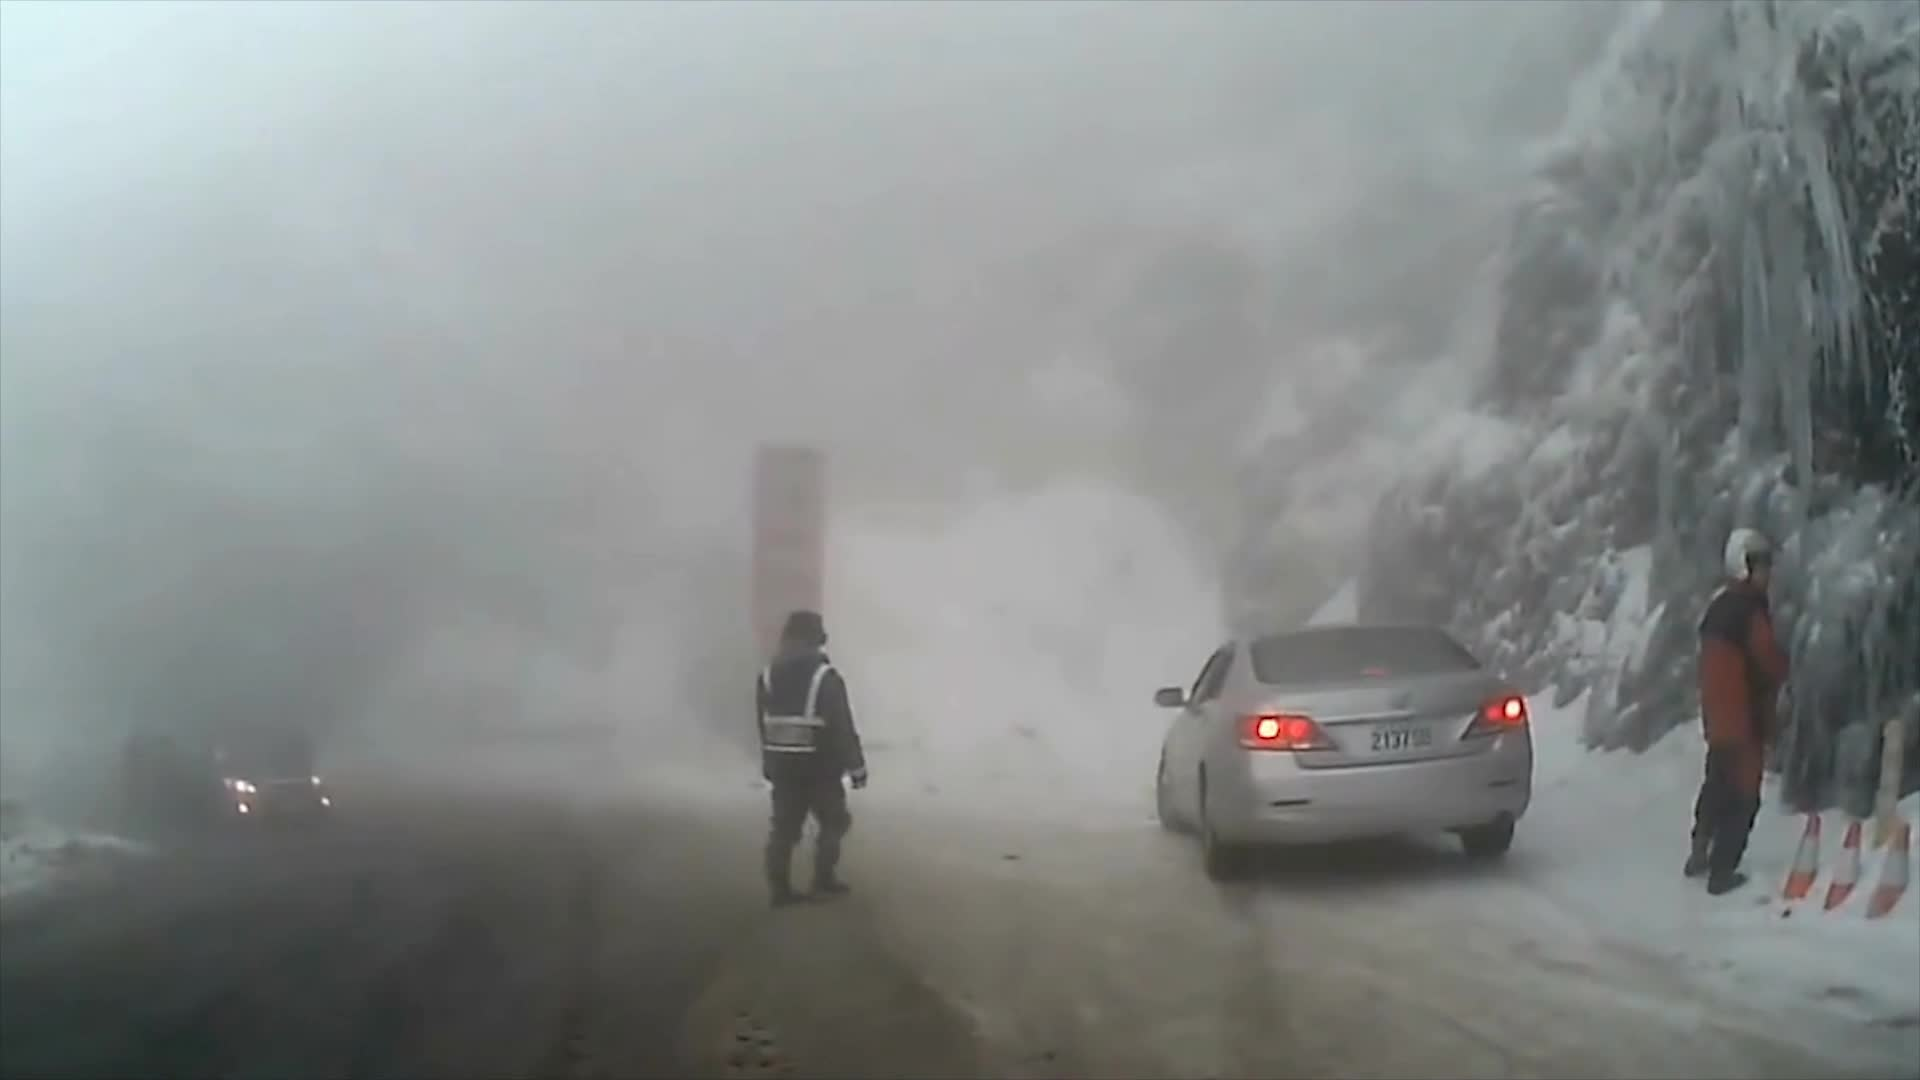pedestrian: (1678, 528, 1800, 899), (757, 614, 869, 913)
vehicle: (1150, 620, 1532, 883)
